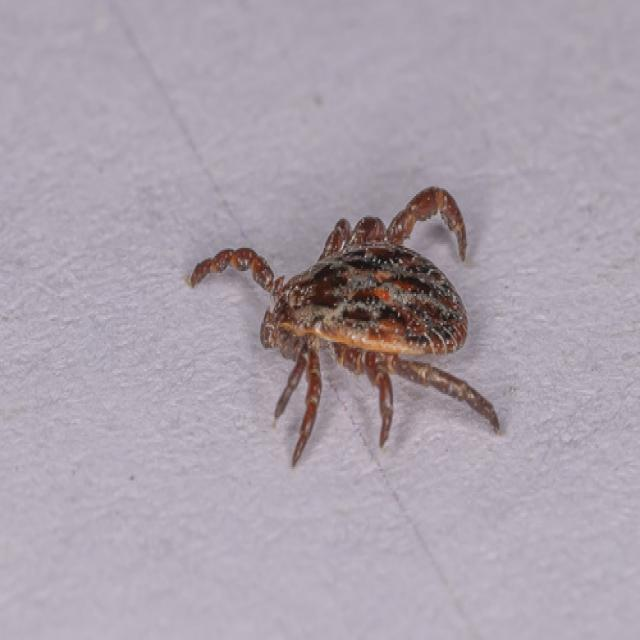Dermacentor Reticulatus-M: (186, 188, 503, 469)
